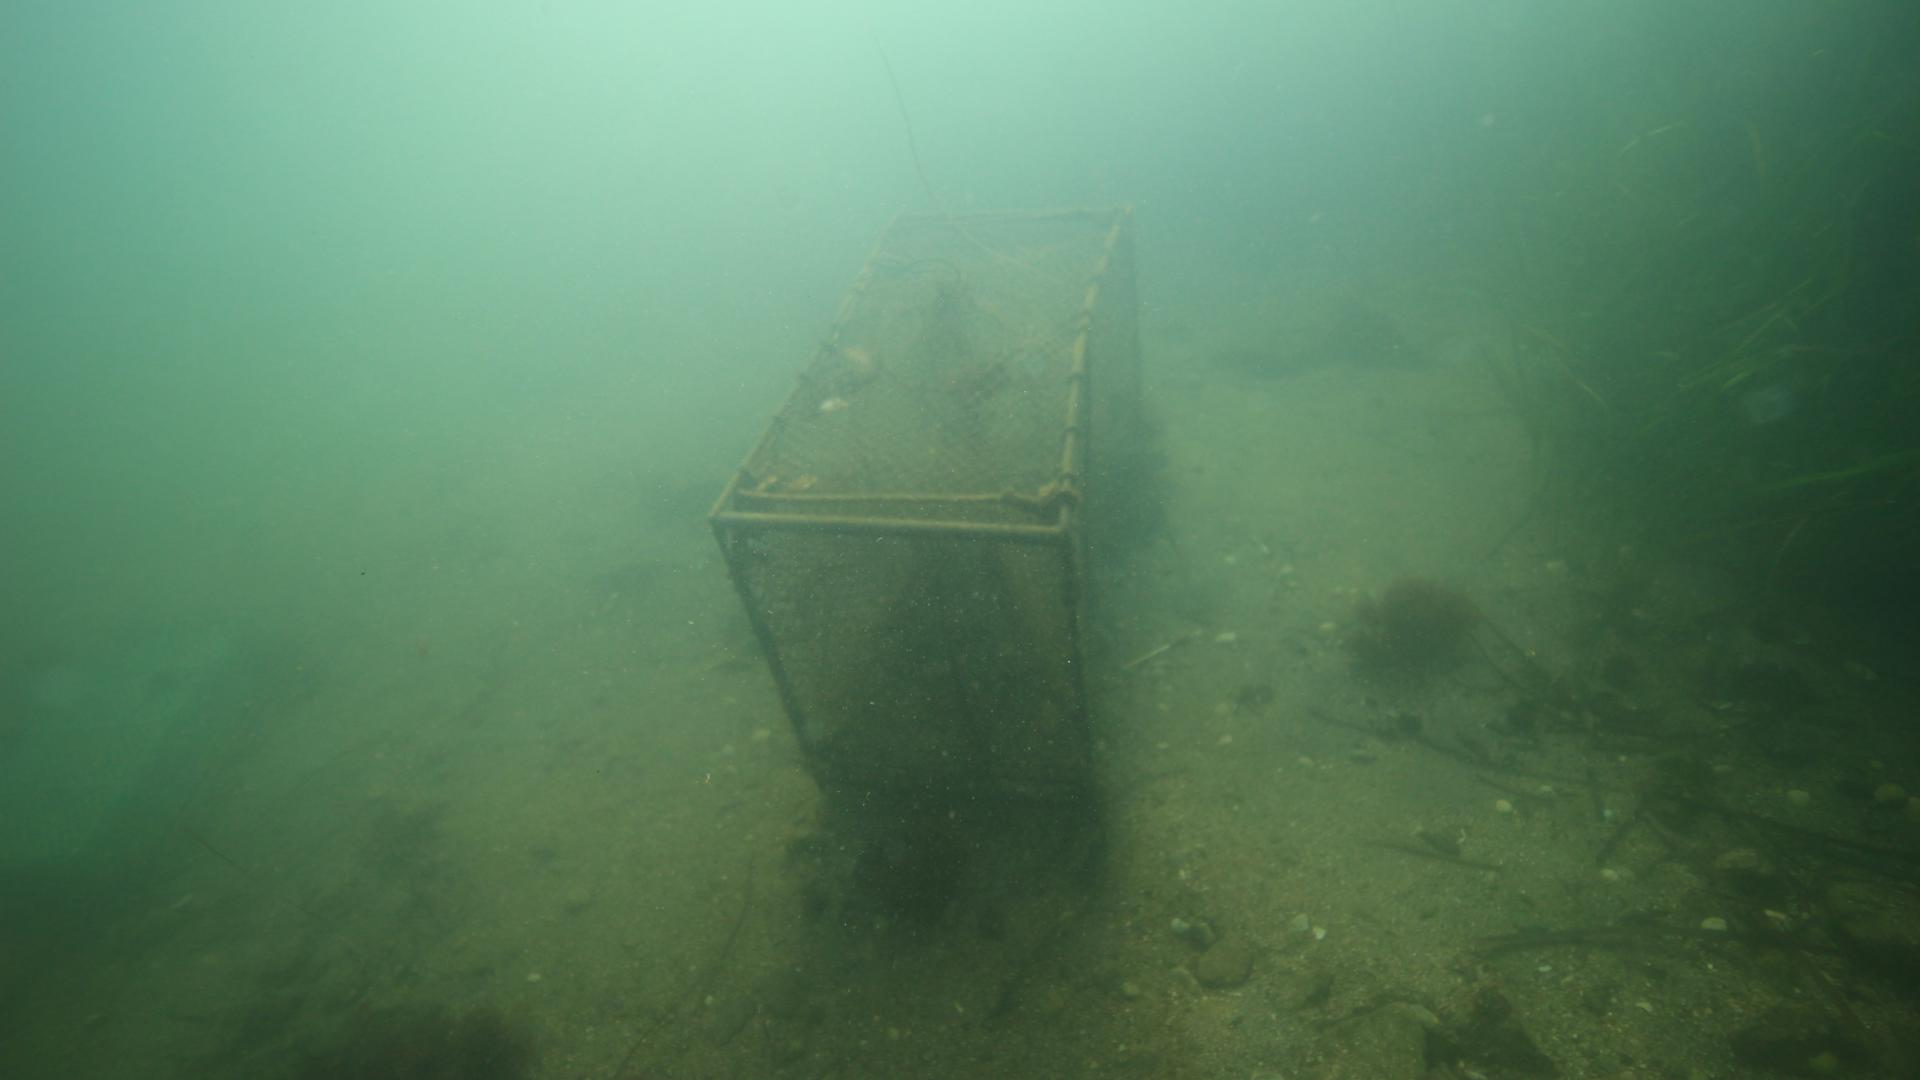rectangular fish trap: (700, 195, 1163, 822)
